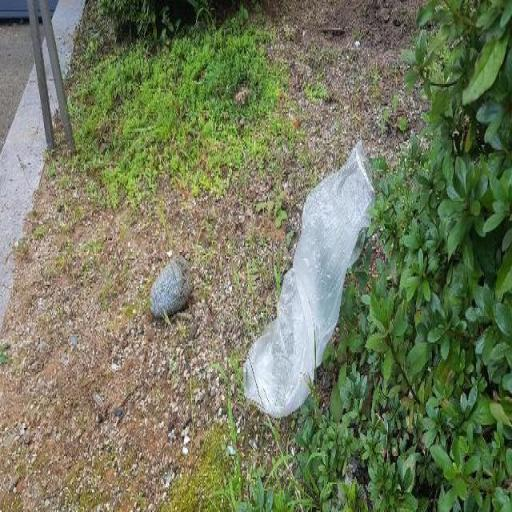plastic-bag: (240, 136, 378, 422)
